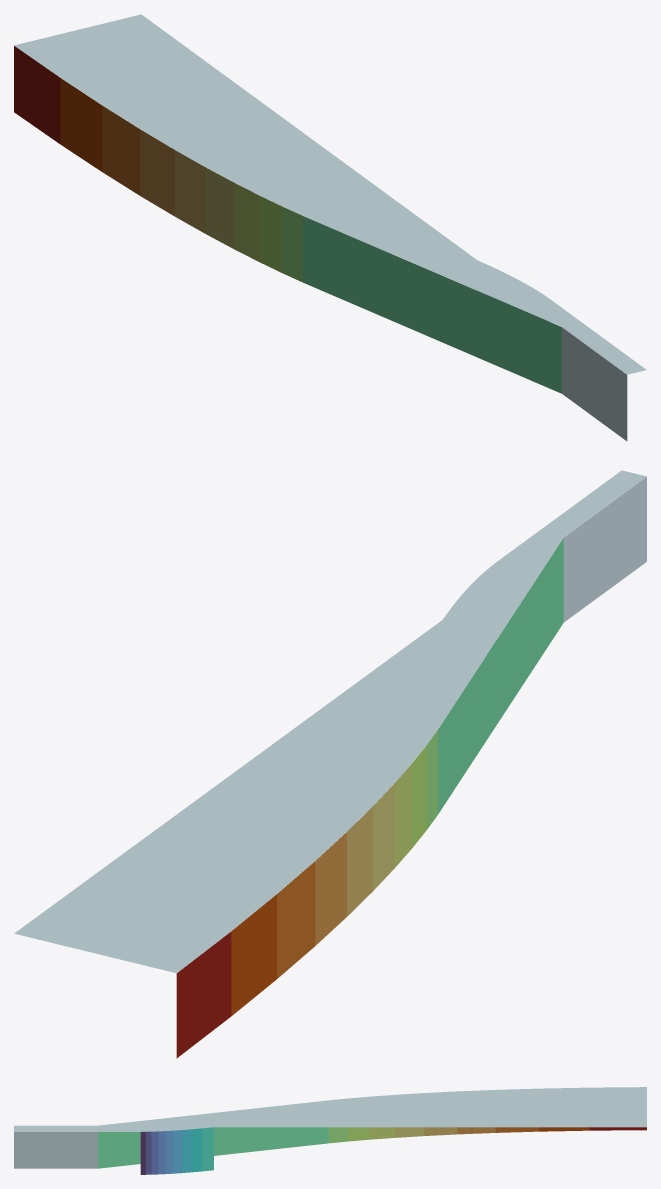
File: scramjet_n10_m10.glb
The picture shows the model from 3 angles, top to bottom: view 1: azimuth 30°, elevation 25°; view 2: azimuth 150°, elevation 25°; view 3: azimuth 270°, elevation 25°; orthographic projection. The views are drawn at different scales.
Visible parts, largest first — view 1: mesh0; view 2: mesh0; view 3: mesh0.
Part boxes in pixels (left/top/right/bottom): mesh0: left=14, top=14, right=646, bottom=441; mesh0: left=14, top=470, right=646, bottom=1058; mesh0: left=14, top=1087, right=646, bottom=1174.
Bounding box in the file's own units: 1.12 × 0.5008 × 6.67.
